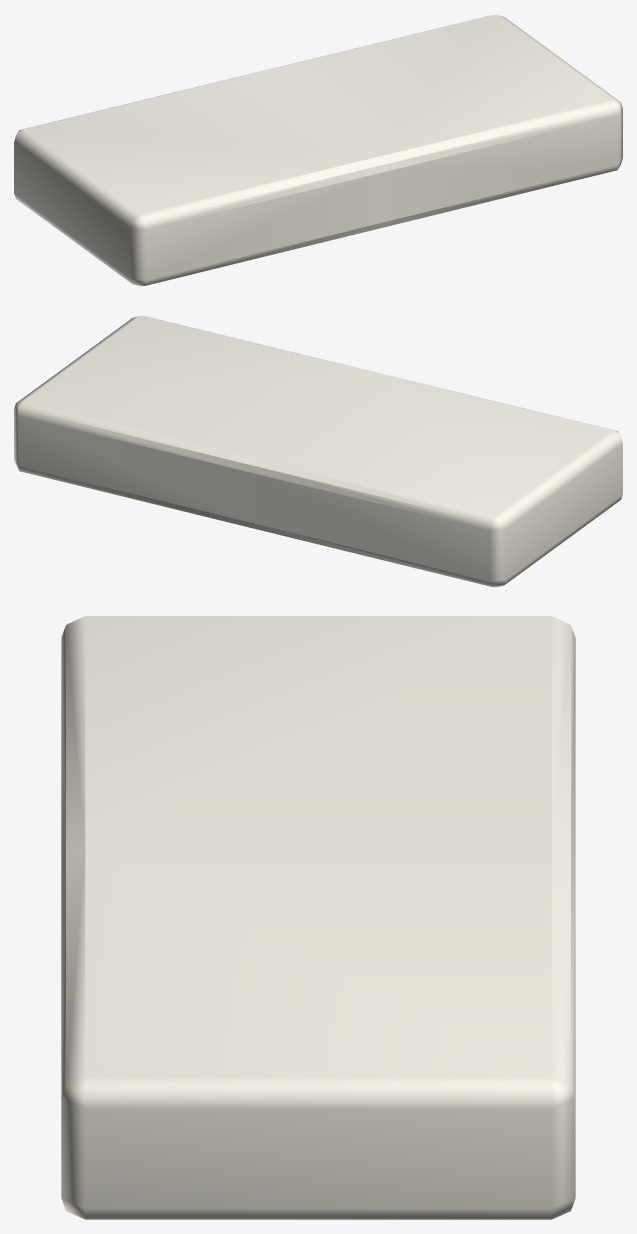
3 views of the same model, one above another, from view 1: azimuth 30°, elevation 25°; view 2: azimuth 150°, elevation 25°; view 3: azimuth 270°, elevation 25° (orthographic). The views are drawn at different scales.
Visible parts, largest first — view 1: domino:domino:domino:domino:polySurface7; view 2: domino:domino:domino:domino:polySurface7; view 3: domino:domino:domino:domino:polySurface7.
Boxes of the visible parts, x1=… form: domino:domino:domino:domino:polySurface7: x1=14, y1=14, x2=622, y2=286; domino:domino:domino:domino:polySurface7: x1=14, y1=315, x2=622, y2=587; domino:domino:domino:domino:polySurface7: x1=61, y1=616, x2=575, y2=1219.
Size of the model in its own units: 3.28 by 0.4579 by 1.48.
Materials: 1 (1 with a texture image).
